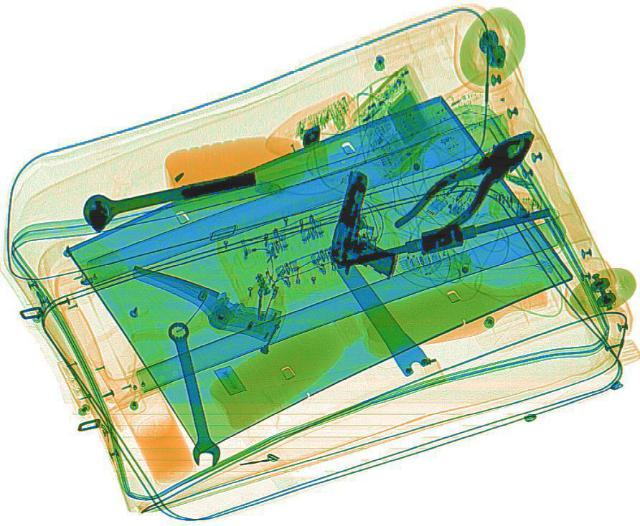Gun: (319, 168, 419, 280)
Pliers: (388, 116, 552, 251)
Wrench: (164, 320, 222, 467)
